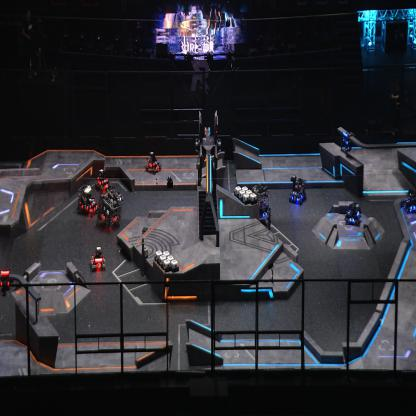car: (98, 185, 124, 231), (248, 183, 270, 224), (77, 184, 99, 218), (288, 174, 308, 204), (89, 245, 106, 272), (344, 201, 362, 226), (94, 167, 111, 191), (144, 150, 161, 174), (404, 188, 416, 214)
